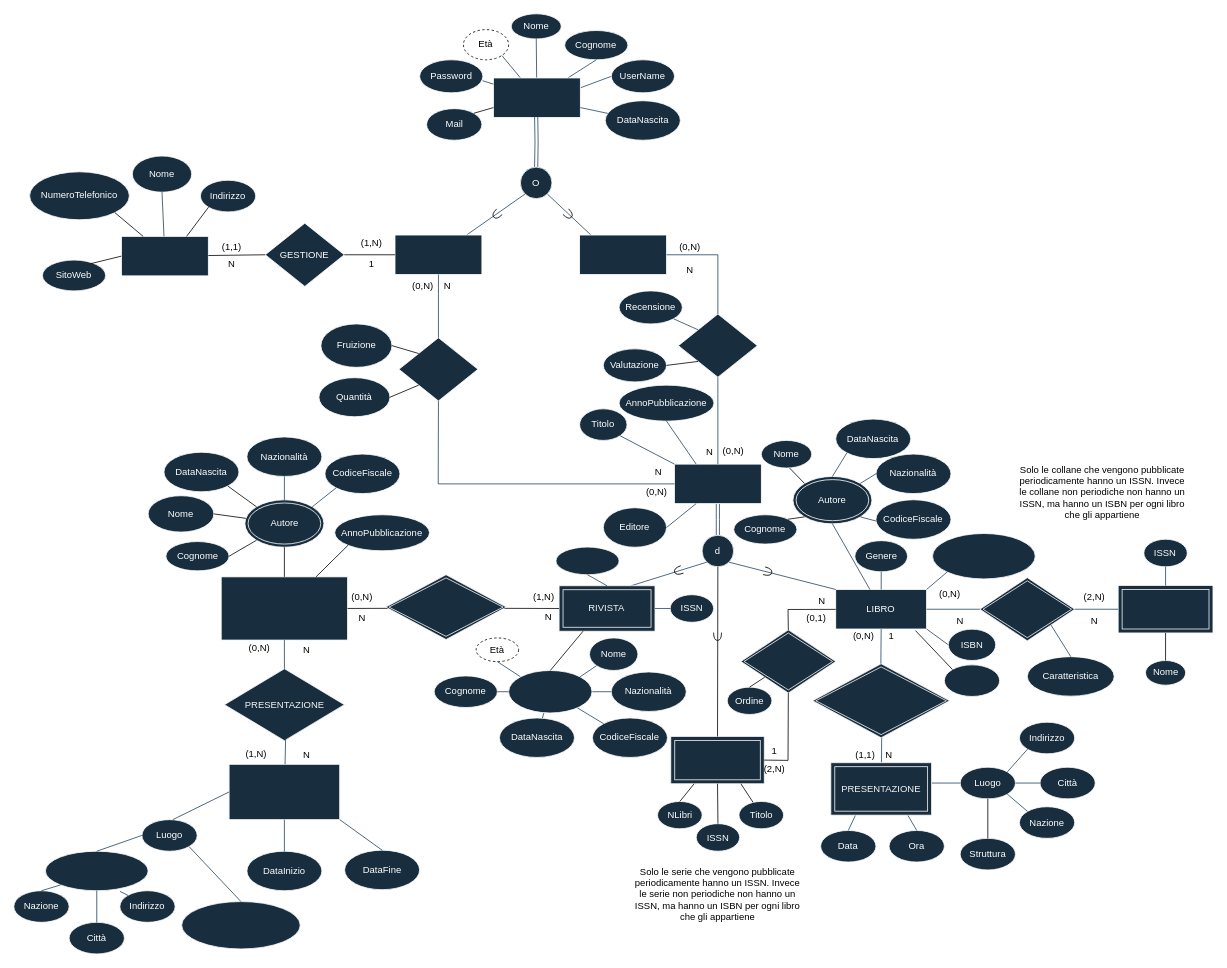
Image size: 1227x968. Some labels were removed from this diagram. Here are the shapes that lost their labels. From the top down, the centre of each, then its label:
point (536, 97): UTENTE
point (164, 256): LIBRERIA
point (438, 254): VENDITORE
point (623, 254): STANDARD
point (717, 345): PREFERITI
point (438, 369): POSSESSO
point (717, 483): ELEMENTO
point (587, 560): Argomento
point (983, 556): DataPubblicazione
point (284, 608): ARTICOLO_SCIENTIFICO
point (445, 607): COMPOSIZIONE
point (1027, 609): APPARTENENZA
point (1165, 609): COLLANA
point (788, 661): INSERIMENTO
point (972, 680): Lingua
point (550, 691): Responsabile
point (881, 700): PARTECIPAZIONE
point (717, 760): SERIE
point (284, 792): CONFERENZA
point (96, 870): LuogoConferenza
point (240, 925): StrutturaOrganizzatrice
